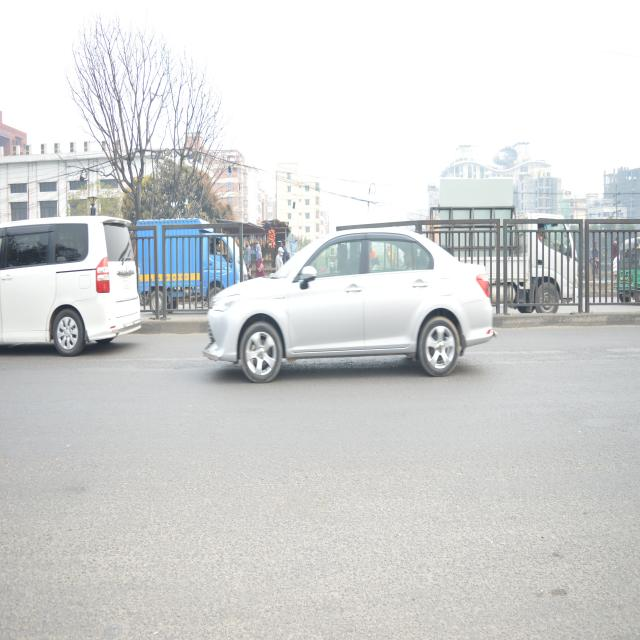car: (201, 225, 497, 396), (0, 201, 142, 357)
pickup-van: (134, 202, 243, 326), (494, 198, 584, 320)
